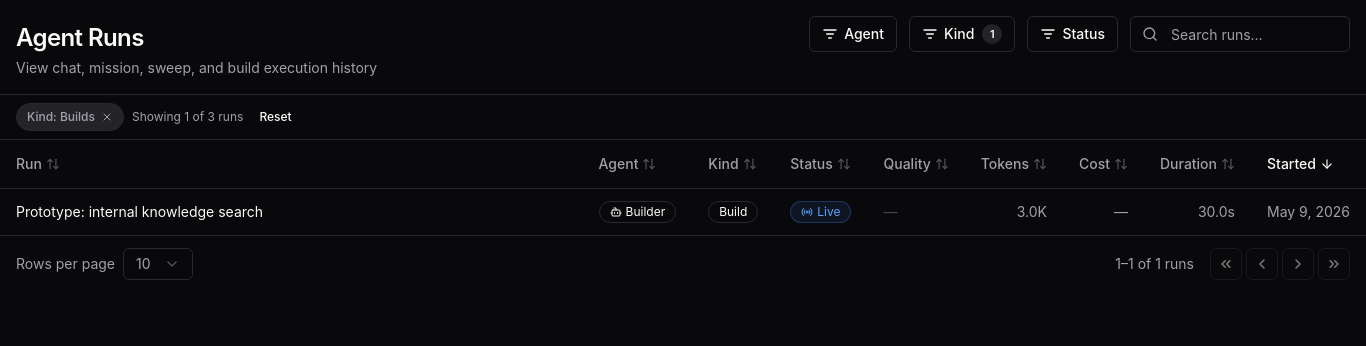
RunsTable hidden kind facet + chip › dismissing the chip clears the facet and shows all rows again
This screenshot has width=1366, height=346.
Click the button with test id "runs-filter-chip-kinds-build". click: (70, 117)
box: top-left (16, 103), bottom-right (124, 131)
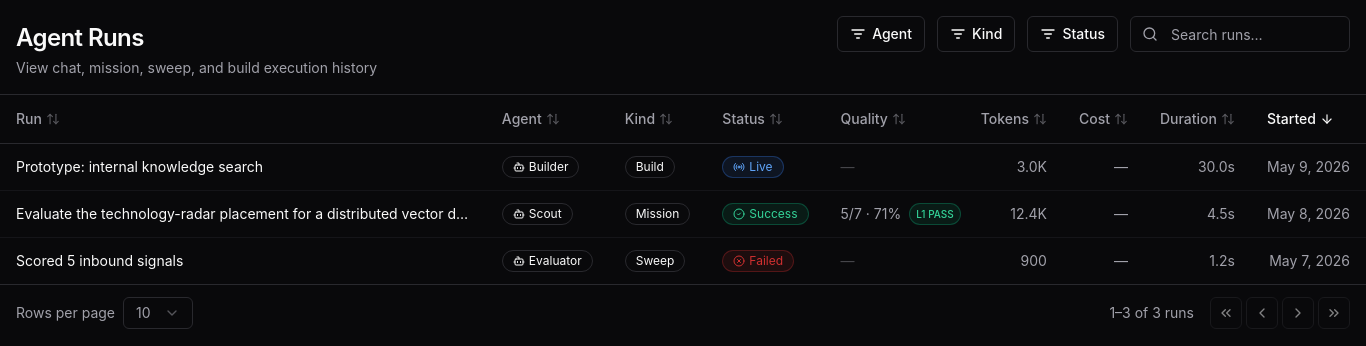
Expected: the button with test id "runs-filter-chip-kinds-build" is gone
Expected: the row with test id "run-row-run-mission-1" is shown, top-left (0, 190), bottom-right (1365, 237)
Expected: the row with test id "run-row-run-sweep-1" is shown, top-left (0, 237), bottom-right (1365, 284)
